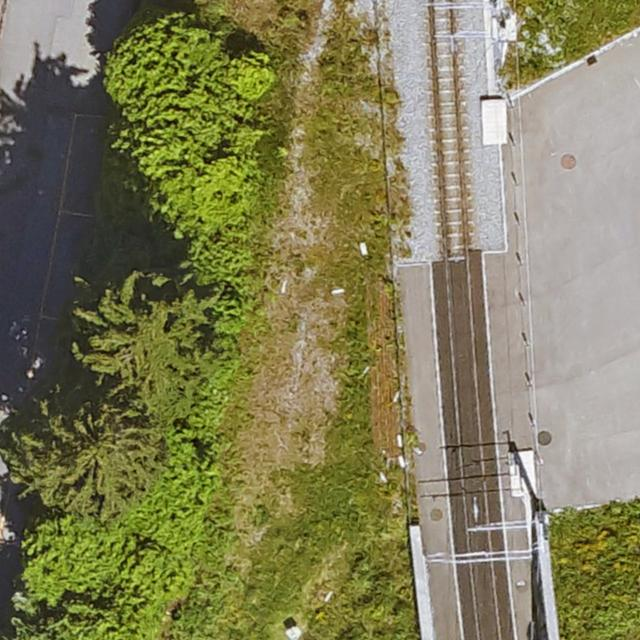tree: (77, 276, 240, 424), (96, 13, 252, 137), (15, 398, 160, 512)
